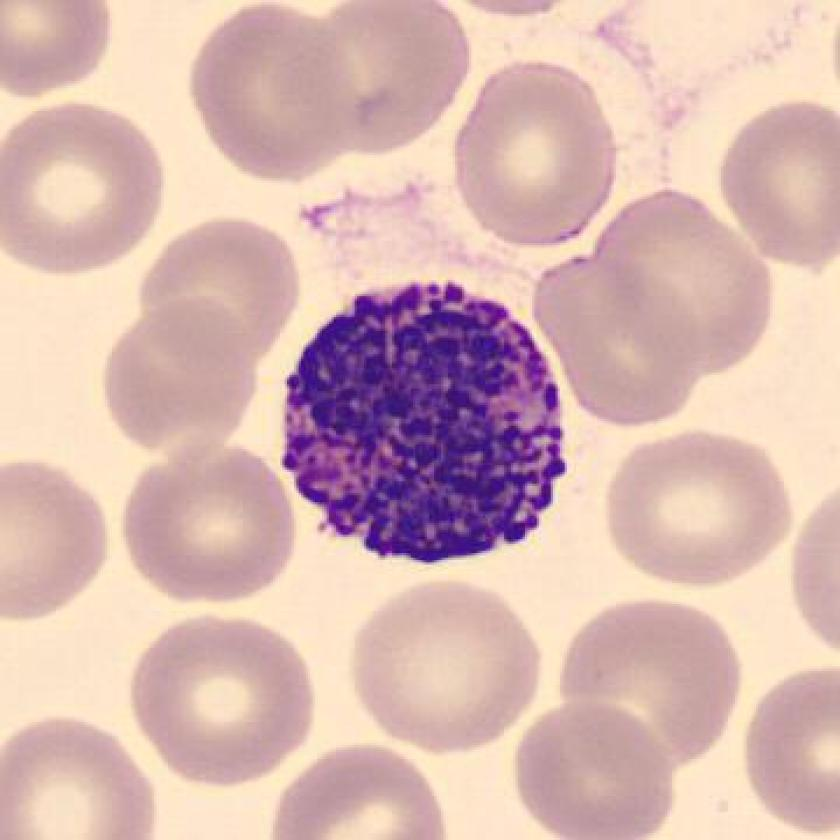basophil: (267, 269, 589, 598)
